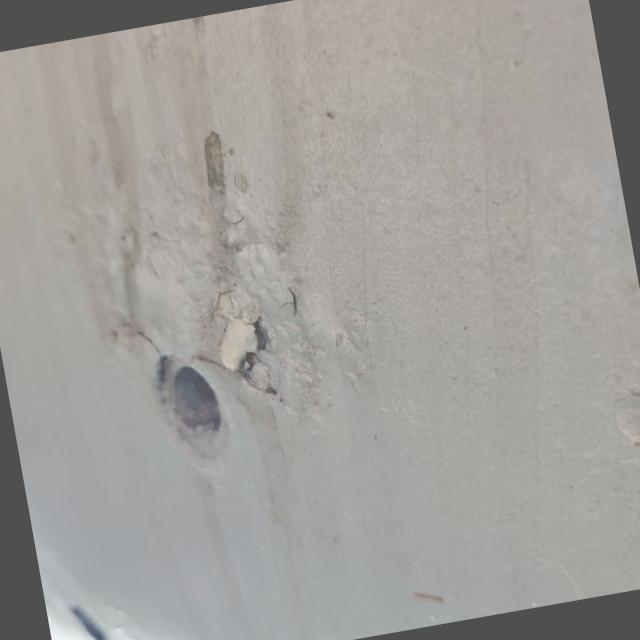crack: (193, 286, 298, 408)
